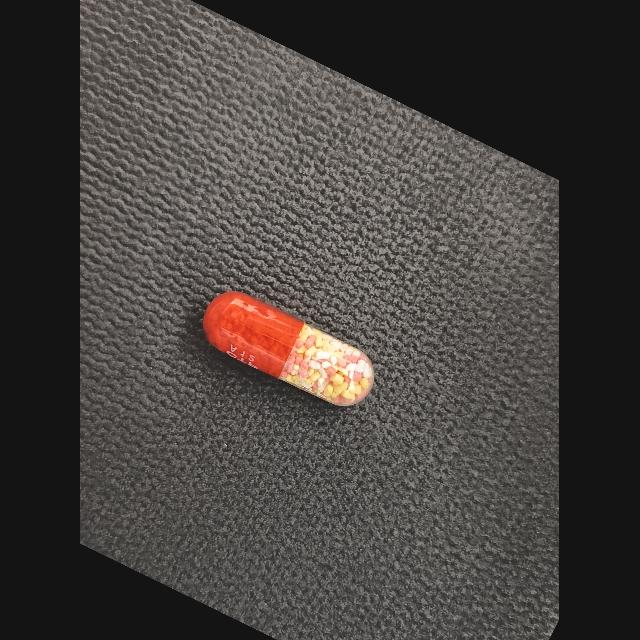Intact Capsule: (203, 291, 375, 406)
